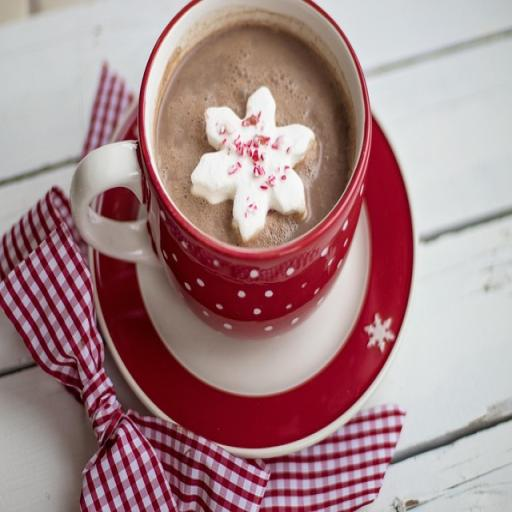cup: (70, 0, 371, 342)
